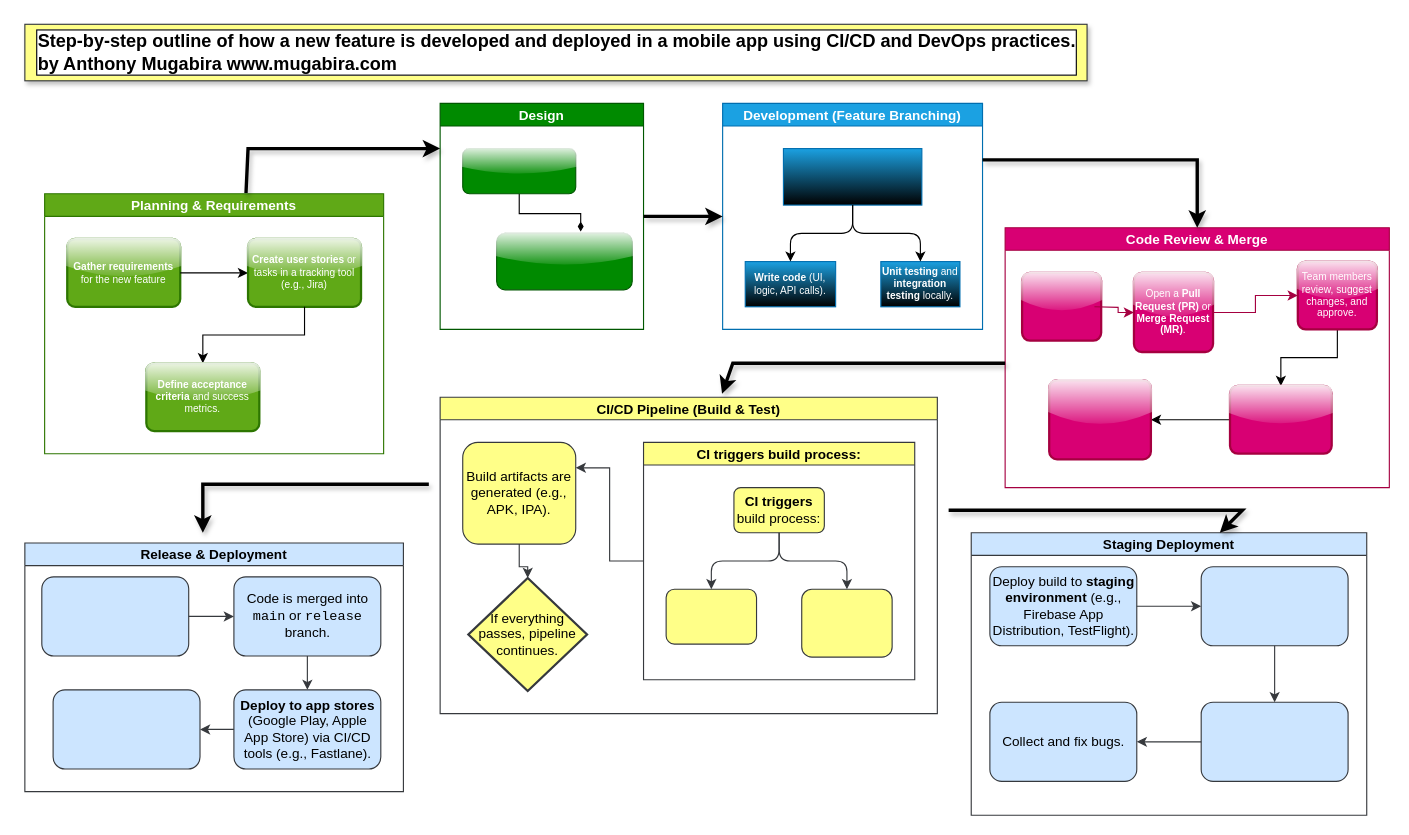
Some shapes in this 1409 by 835 pixel diagram are drawn without their labels. Here are the shapes that lost their labels. From the top down, the centre of each, then its label:
[519,170]: UI/UX design created (Figma or similar).
[852,176]: Create a feature branch from the main branch ( main or develop )
[564,261]: Architecture planning , considering backend, mobile, and API changes.
[1061,306]: Push code to remote (GitHub, GitLab, Bitbucket).
[1099,419]: Once approved, merge into the staging or develop branch.
[1280,419]: Run automated CI checks (build, lint, unit tests).
[115,616]: Feature is flagged for release (may use feature flags or remote config ).
[711,616]: Compile mobile app (Android/iOS)
[846,622]: Run unit tests , UI tests , linting .
[1274,606]: QA team or testers validate feature against acceptance criteria.
[126,729]: Monitor for build success and store approval.
[1274,741]: Conduct manual/exploratory testing , if needed.
